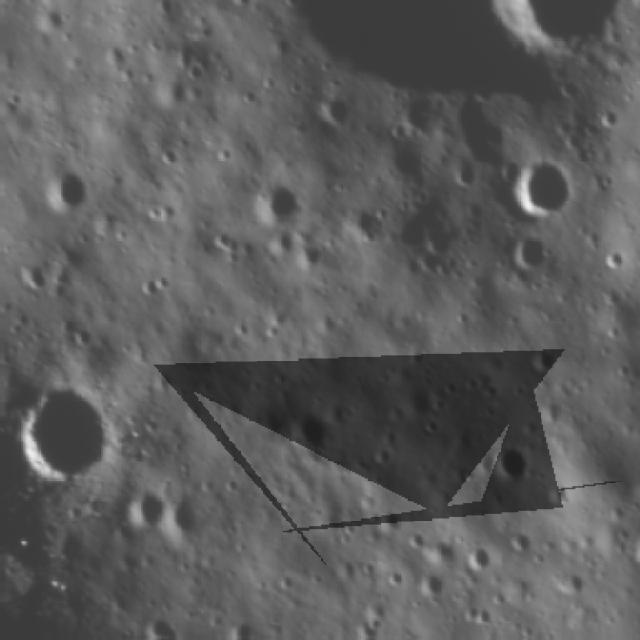crater: (6, 375, 126, 503), (466, 0, 640, 80), (493, 147, 582, 230), (242, 178, 313, 238), (35, 163, 102, 222), (163, 492, 219, 558), (273, 406, 336, 462), (108, 483, 164, 537), (502, 227, 558, 279), (336, 198, 382, 247), (484, 442, 536, 478), (411, 566, 444, 606), (461, 539, 492, 579), (505, 524, 533, 558), (0, 220, 12, 294), (624, 521, 640, 570), (222, 620, 258, 640)
